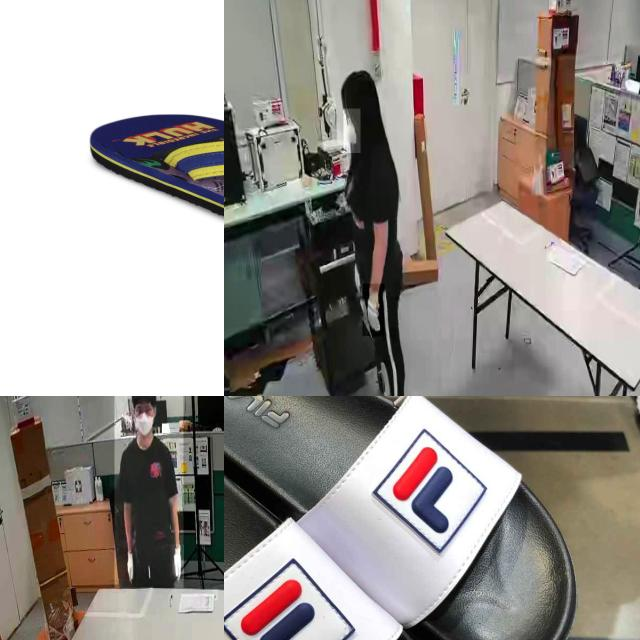Sandals: (224, 396, 582, 640), (88, 108, 224, 252)
face_mask: (134, 398, 154, 440), (344, 109, 361, 153)
hand_glove: (363, 284, 385, 337), (170, 544, 184, 581), (125, 549, 137, 584)
head_nohelmet: (340, 68, 378, 98)
person: (330, 69, 413, 396), (114, 396, 183, 588)
